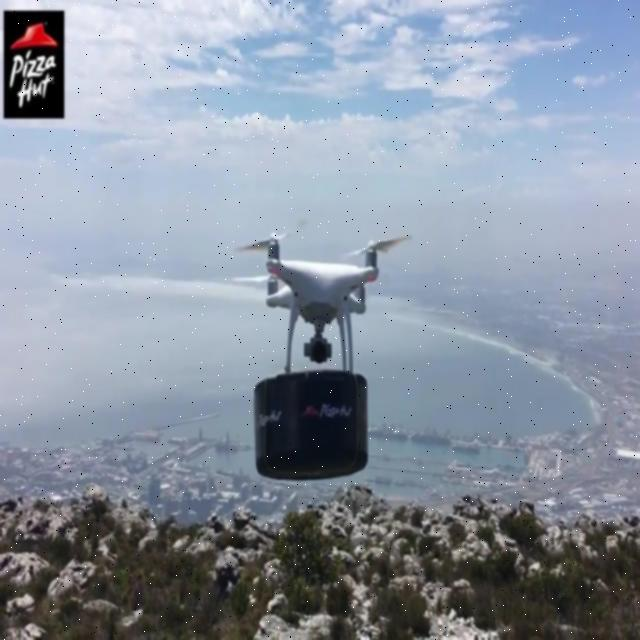UAV: (235, 233, 411, 371)
